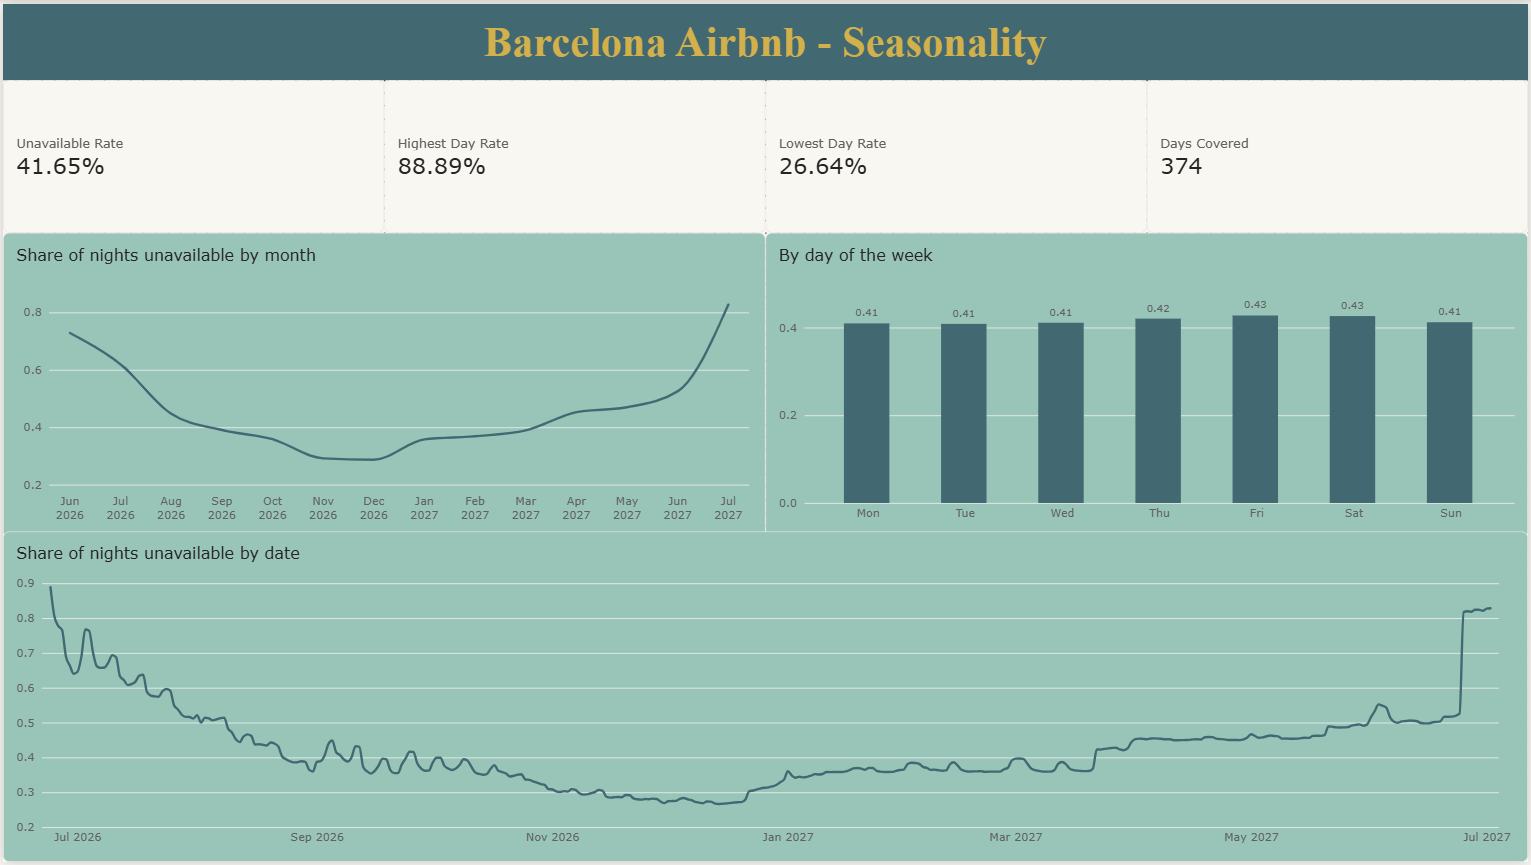

The page's visual inventory and layout, read from the dashboard file:
{"tool":"powerbi","page":{"name":"Seasonality","canvas":[1920,1080],"ordinal":2},"visuals":[{"type":"textbox","box":[0,0,1920,96],"z":0},{"type":"cardVisual","fields":{"Data":["daily_occupancy.Unavailable Rate"]},"box":[0,96,480,192],"z":1000},{"type":"cardVisual","fields":{"Data":["daily_occupancy.Highest Day Rate"]},"box":[480,96,480,192],"z":2000},{"type":"cardVisual","fields":{"Data":["daily_occupancy.Lowest Day Rate"]},"box":[960,96,480,192],"z":3000},{"type":"cardVisual","fields":{"Data":["daily_occupancy.days covered"]},"box":[1440,96,480,192],"z":4000},{"type":"lineChart","title":"Share of nights unavailable by month","fields":{"Category":["daily_occupancy.month_label"],"Y":["daily_occupancy.Unavailable Rate"]},"box":[0,288,960,384],"z":5000},{"type":"clusteredColumnChart","title":"By day of the week","fields":{"Category":["daily_occupancy.day_name"],"Y":["daily_occupancy.Unavailable Rate"]},"box":[960,288,960,384],"z":6000},{"type":"lineChart","title":"Share of nights unavailable by date","fields":{"Category":["daily_occupancy.date.Variation.Date Hierarchy.Year","daily_occupancy.date.Variation.Date Hierarchy.Quarter","daily_occupancy.date.Variation.Date Hierarchy.Month","daily_occupancy.date.Variation.Date Hierarchy.Day"],"Y":["daily_occupancy.Unavailable Rate"]},"box":[0,664,1920,416],"z":7000}]}

Visuals, with their boxes in screenshot pixels (x1, y1, x2, y2), scaled from the page's 1920x1080 canvas onto the 1531x865 screenshot:
textbox: (0, 0, 1530, 77)
cardVisual - daily_occupancy.Unavailable Rate: (0, 77, 383, 231)
cardVisual - daily_occupancy.Highest Day Rate: (383, 77, 766, 231)
cardVisual - daily_occupancy.Lowest Day Rate: (766, 77, 1148, 231)
cardVisual - daily_occupancy.days covered: (1148, 77, 1530, 231)
"Share of nights unavailable by month" lineChart: (0, 231, 766, 538)
"By day of the week" clusteredColumnChart: (766, 231, 1530, 538)
"Share of nights unavailable by date" lineChart: (0, 532, 1530, 864)
